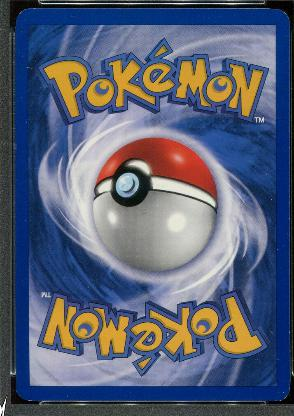Card: (10, 0, 292, 406)
Corner Wear: (269, 382, 292, 404), (14, 390, 33, 402), (17, 7, 37, 15)
Scratch: (249, 354, 258, 364), (69, 14, 78, 20), (266, 327, 273, 334), (25, 66, 33, 72), (271, 355, 278, 361)
